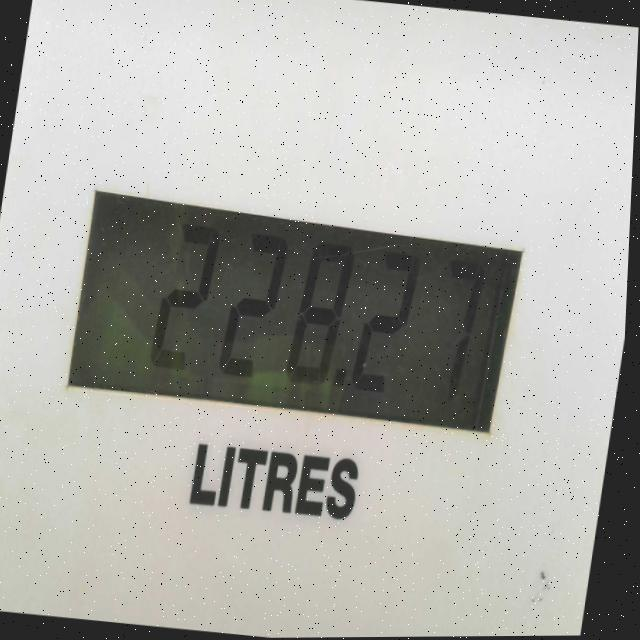.: (326, 362, 361, 409)
2: (208, 211, 299, 411), (144, 203, 230, 396), (345, 238, 430, 412)
7: (413, 241, 501, 422)
8: (275, 232, 365, 409)
